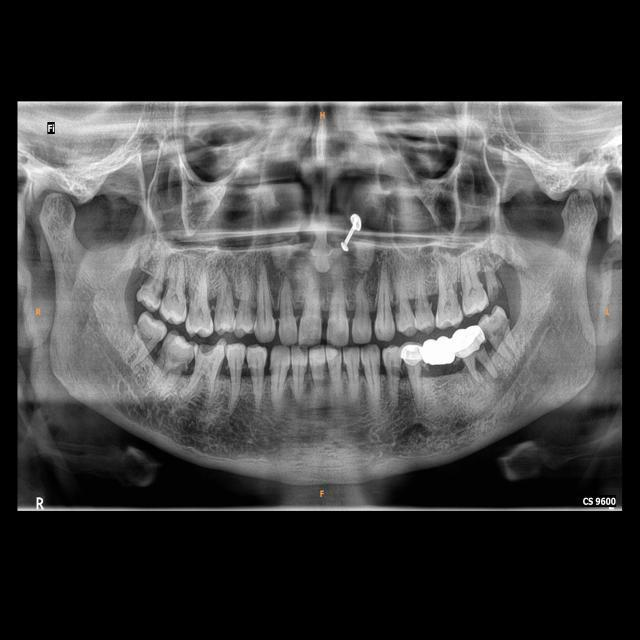dentin-curugu: (199, 342, 218, 358)
kaplama: (454, 326, 486, 356), (400, 344, 423, 365)
kirik: (485, 277, 506, 300)
kopru: (420, 336, 460, 374)
